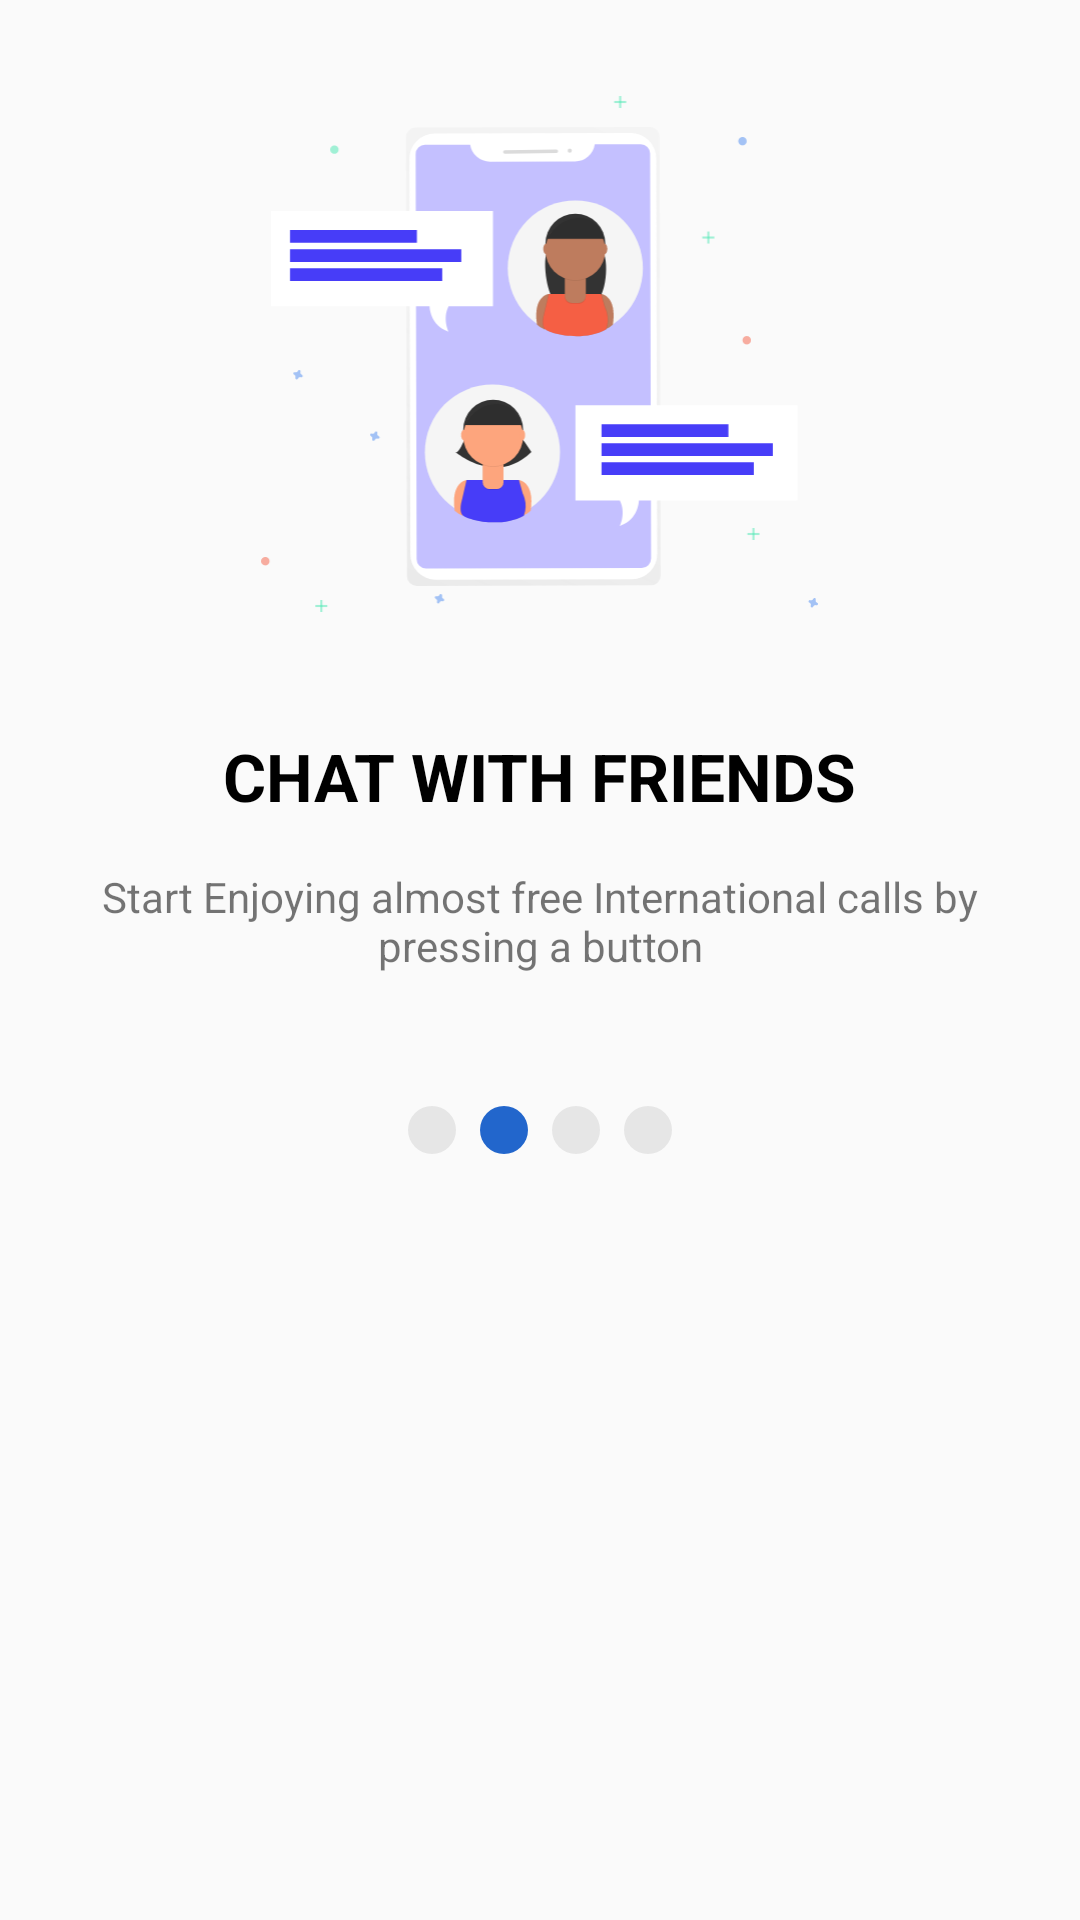

Icon click points for this 1080 × 1920 phone screenshot, format (x,y):
fiber manual record: (504,1130)
